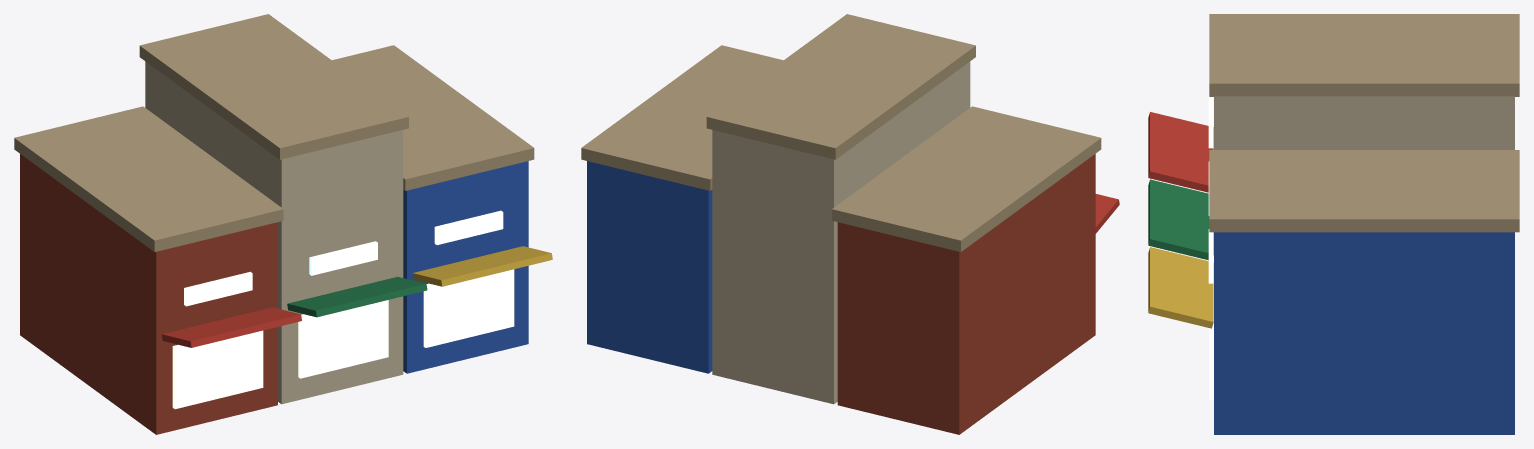
Rendered from prop-shop-row.glb.
3 renders of one model, left to right at view 1: azimuth 30°, elevation 25°; view 2: azimuth 150°, elevation 25°; view 3: azimuth 270°, elevation 25°, orthographic. The views are drawn at different scales.
Parts seen in each view (by area): view 1: cw_paint, cw_glow, cw_neon; view 2: cw_paint; view 3: cw_paint, cw_glow.
Boxes of the visible parts, x1,y1,x2,y2 form: cw_paint: (14, 14, 552, 434); cw_glow: (172, 210, 514, 409); cw_neon: (309, 241, 377, 275); cw_paint: (581, 14, 1119, 434); cw_paint: (1148, 14, 1519, 434); cw_glow: (1208, 94, 1213, 400).
Size of the model in its own units: 5.15 by 3.35 by 3.95.
